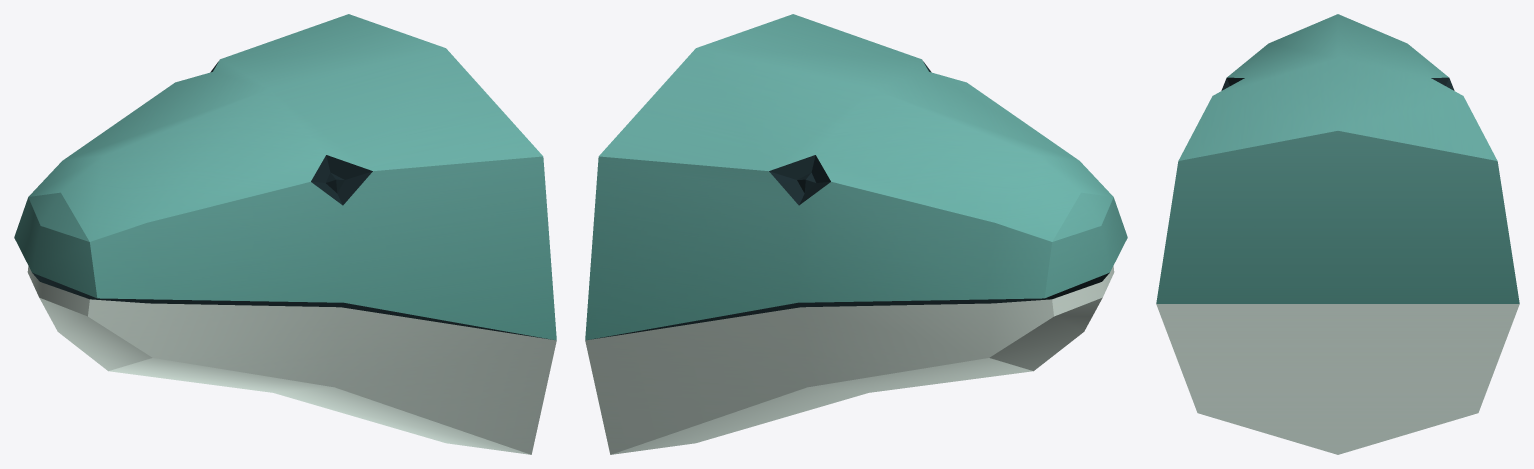
The model's file is Whale_head.fbx.
3 views of the same model, side by side, from view 1: azimuth 30°, elevation 25°; view 2: azimuth 150°, elevation 25°; view 3: azimuth 270°, elevation 25° (orthographic). The views are drawn at different scales.
Visible parts, largest first — view 1: Whale_head; view 2: Whale_head; view 3: Whale_head.
Boxes of the visible parts, box(x1,y1,x2,y2) form: Whale_head: box(14, 14, 556, 454); Whale_head: box(585, 14, 1127, 454); Whale_head: box(1156, 14, 1519, 454).
Size of the model in its own units: 39.64 by 36.33 by 36.73.
